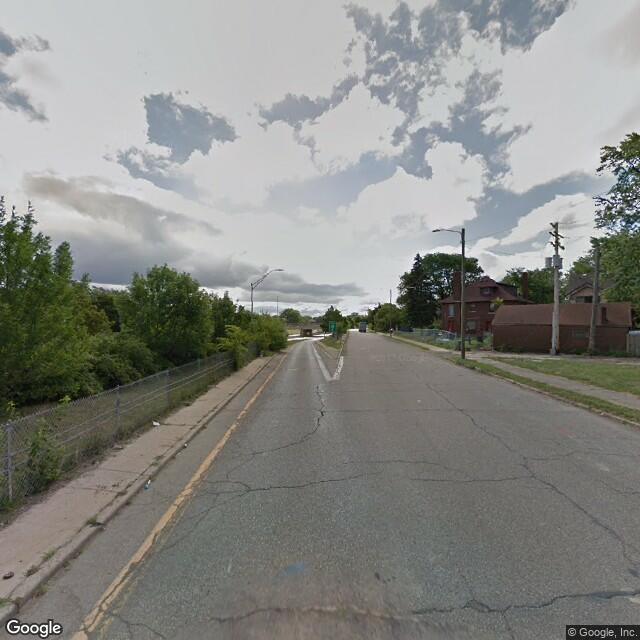litter: (3, 567, 15, 583), (151, 415, 163, 430), (179, 442, 191, 452), (144, 478, 152, 489)
